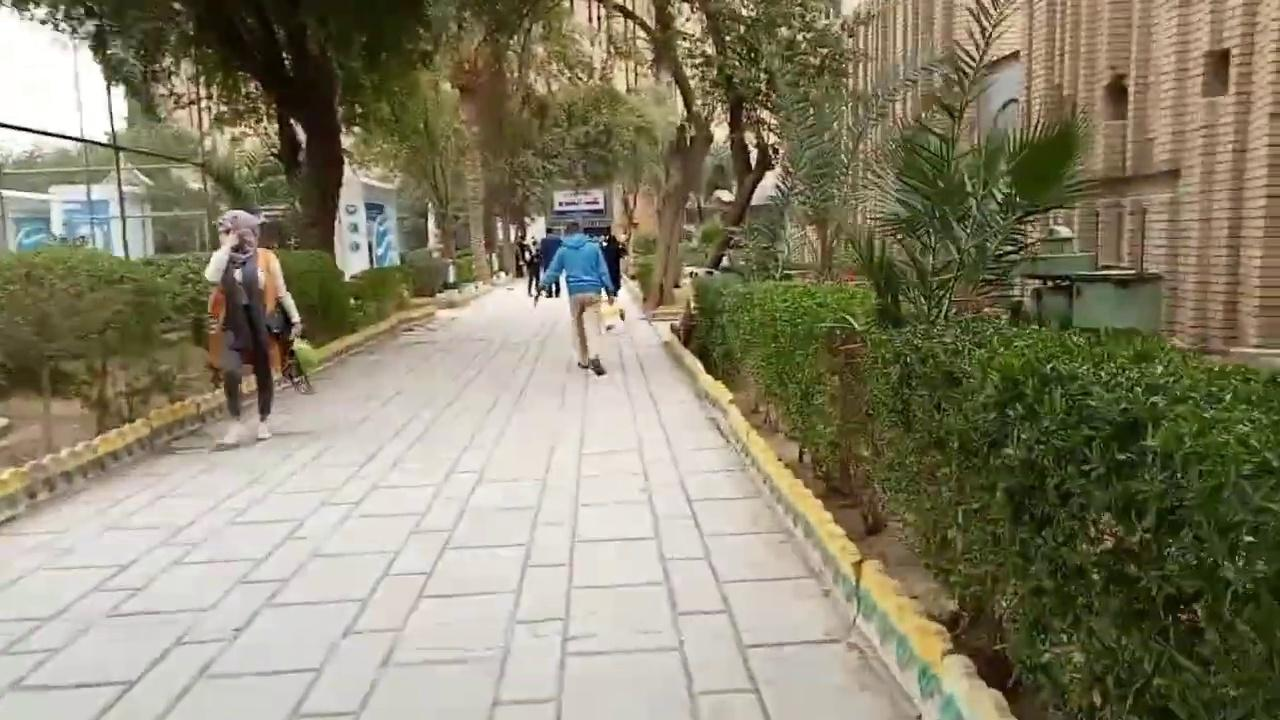person: (203, 208, 302, 446), (536, 220, 617, 373), (539, 226, 563, 297), (602, 234, 624, 297)
tree: (862, 313, 1278, 718), (12, 0, 456, 266), (563, 0, 847, 312), (766, 0, 938, 280), (412, 0, 582, 283), (0, 238, 213, 456), (693, 0, 847, 281), (591, 0, 719, 311)
